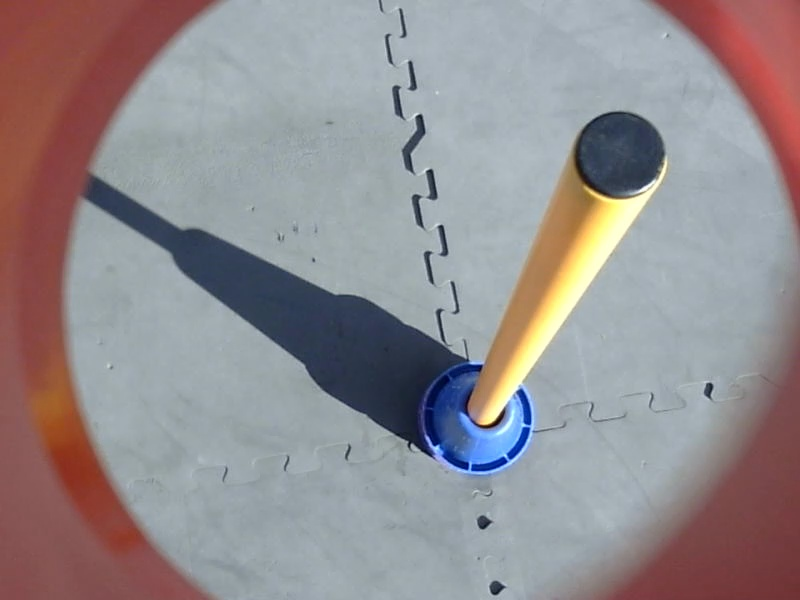tip: (568, 107, 673, 205)
